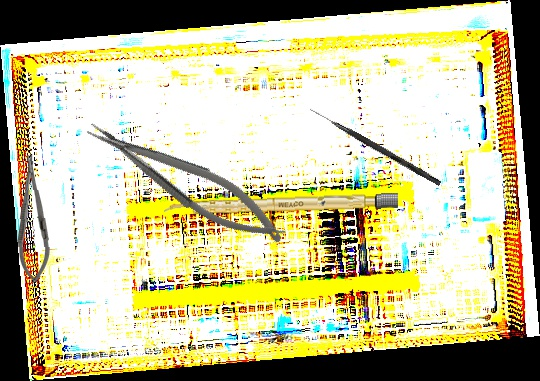Hook Surgical: (307, 107, 443, 186)
Needle Holder: (80, 102, 294, 260), (14, 153, 52, 284)
Scalpel Handle: (163, 192, 399, 217)
